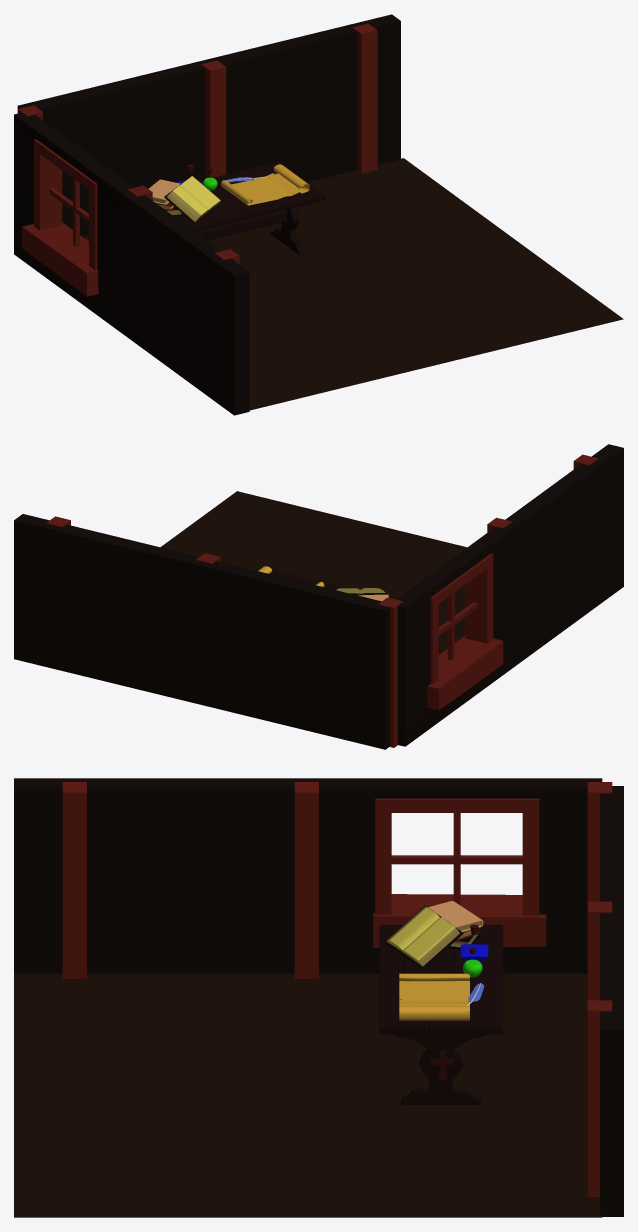
File: escenari.obj
3 views of the same model, one above another, from view 1: azimuth 30°, elevation 25°; view 2: azimuth 150°, elevation 25°; view 3: azimuth 270°, elevation 25° (orthographic). The views are drawn at different scales.
Parts seen in each view (by area): view 1: sorcerer_desk.001, sorcerer_desk.000, sorcerer_desk.003, sorcerer_desk.007, sorcerer_desk.009, sorcerer_desk.017, sorcerer_desk.018; view 2: sorcerer_desk.001, sorcerer_desk.000, sorcerer_desk.003; view 3: sorcerer_desk.000, sorcerer_desk.001, sorcerer_desk.003, sorcerer_desk.007, sorcerer_desk.009, sorcerer_desk.017, sorcerer_desk.018, sorcerer_desk.020.
Part boxes in pixels (x1,y1,x2,y2): sorcerer_desk.001: (14,14,400,415); sorcerer_desk.000: (83,158,623,410); sorcerer_desk.003: (18,23,377,296); sorcerer_desk.007: (175,161,325,256); sorcerer_desk.009: (221,164,309,205); sorcerer_desk.017: (173,176,220,214); sorcerer_desk.018: (152,191,220,221); sorcerer_desk.001: (14,444,623,749); sorcerer_desk.000: (161,491,466,654); sorcerer_desk.003: (46,454,598,747); sorcerer_desk.000: (14,973,602,1217); sorcerer_desk.001: (14,778,623,1216); sorcerer_desk.003: (62,782,612,1196); sorcerer_desk.007: (379,924,503,1104); sorcerer_desk.009: (399,973,469,1020); sorcerer_desk.017: (390,907,455,960); sorcerer_desk.018: (387,906,480,966); sorcerer_desk.020: (428,901,483,932).
Size of the model in its own units: 25.33 by 8.48 by 24.88.
